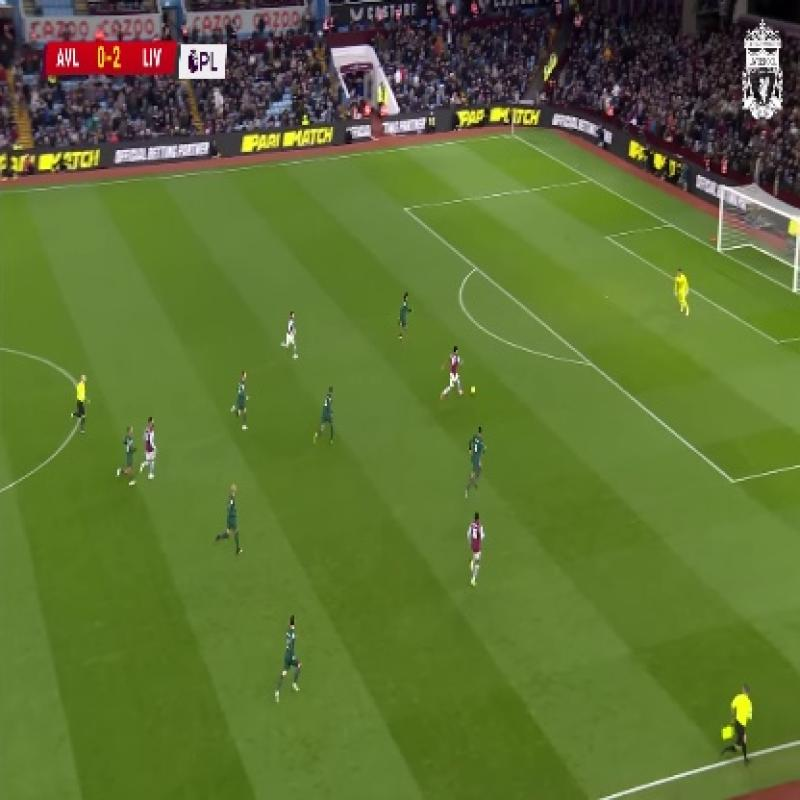1: (500, 126, 519, 142)
10: (465, 256, 483, 277)
11: (579, 348, 598, 375)
12: (721, 466, 744, 492)
2: (582, 170, 598, 188)
3: (660, 211, 678, 235)
7: (596, 225, 615, 248)
8: (765, 327, 786, 354)
9: (394, 196, 414, 219)
c: (62, 378, 100, 422)
